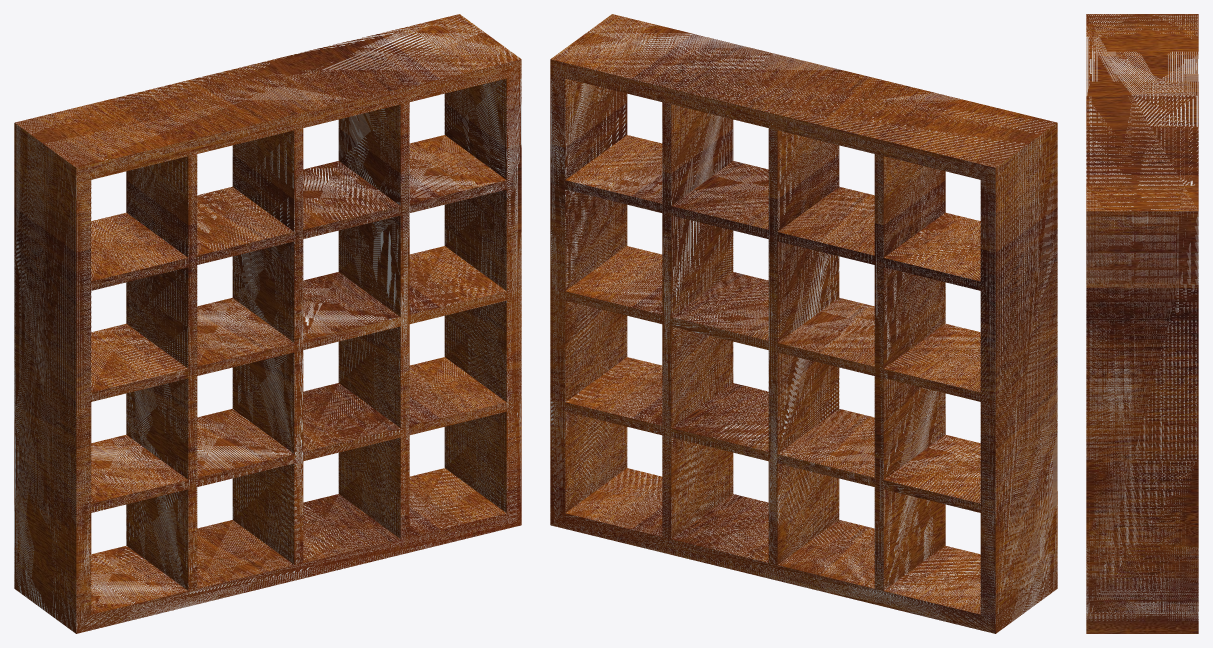
The picture shows the model from 3 angles, left to right: view 1: azimuth 30°, elevation 25°; view 2: azimuth 150°, elevation 25°; view 3: azimuth 270°, elevation 25°; orthographic projection. The views are drawn at different scales.
Parts seen in each view (by area): view 1: mesh1_mesh1-geometry; view 2: mesh1_mesh1-geometry; view 3: mesh1_mesh1-geometry.
Boxes of the visible parts, x1,y1,x2,y2 form: mesh1_mesh1-geometry: (14,14,521,633); mesh1_mesh1-geometry: (550,14,1057,633); mesh1_mesh1-geometry: (1086,14,1198,633).
Size of the model in its own units: 0.6971 by 0.6971 by 0.1677.
